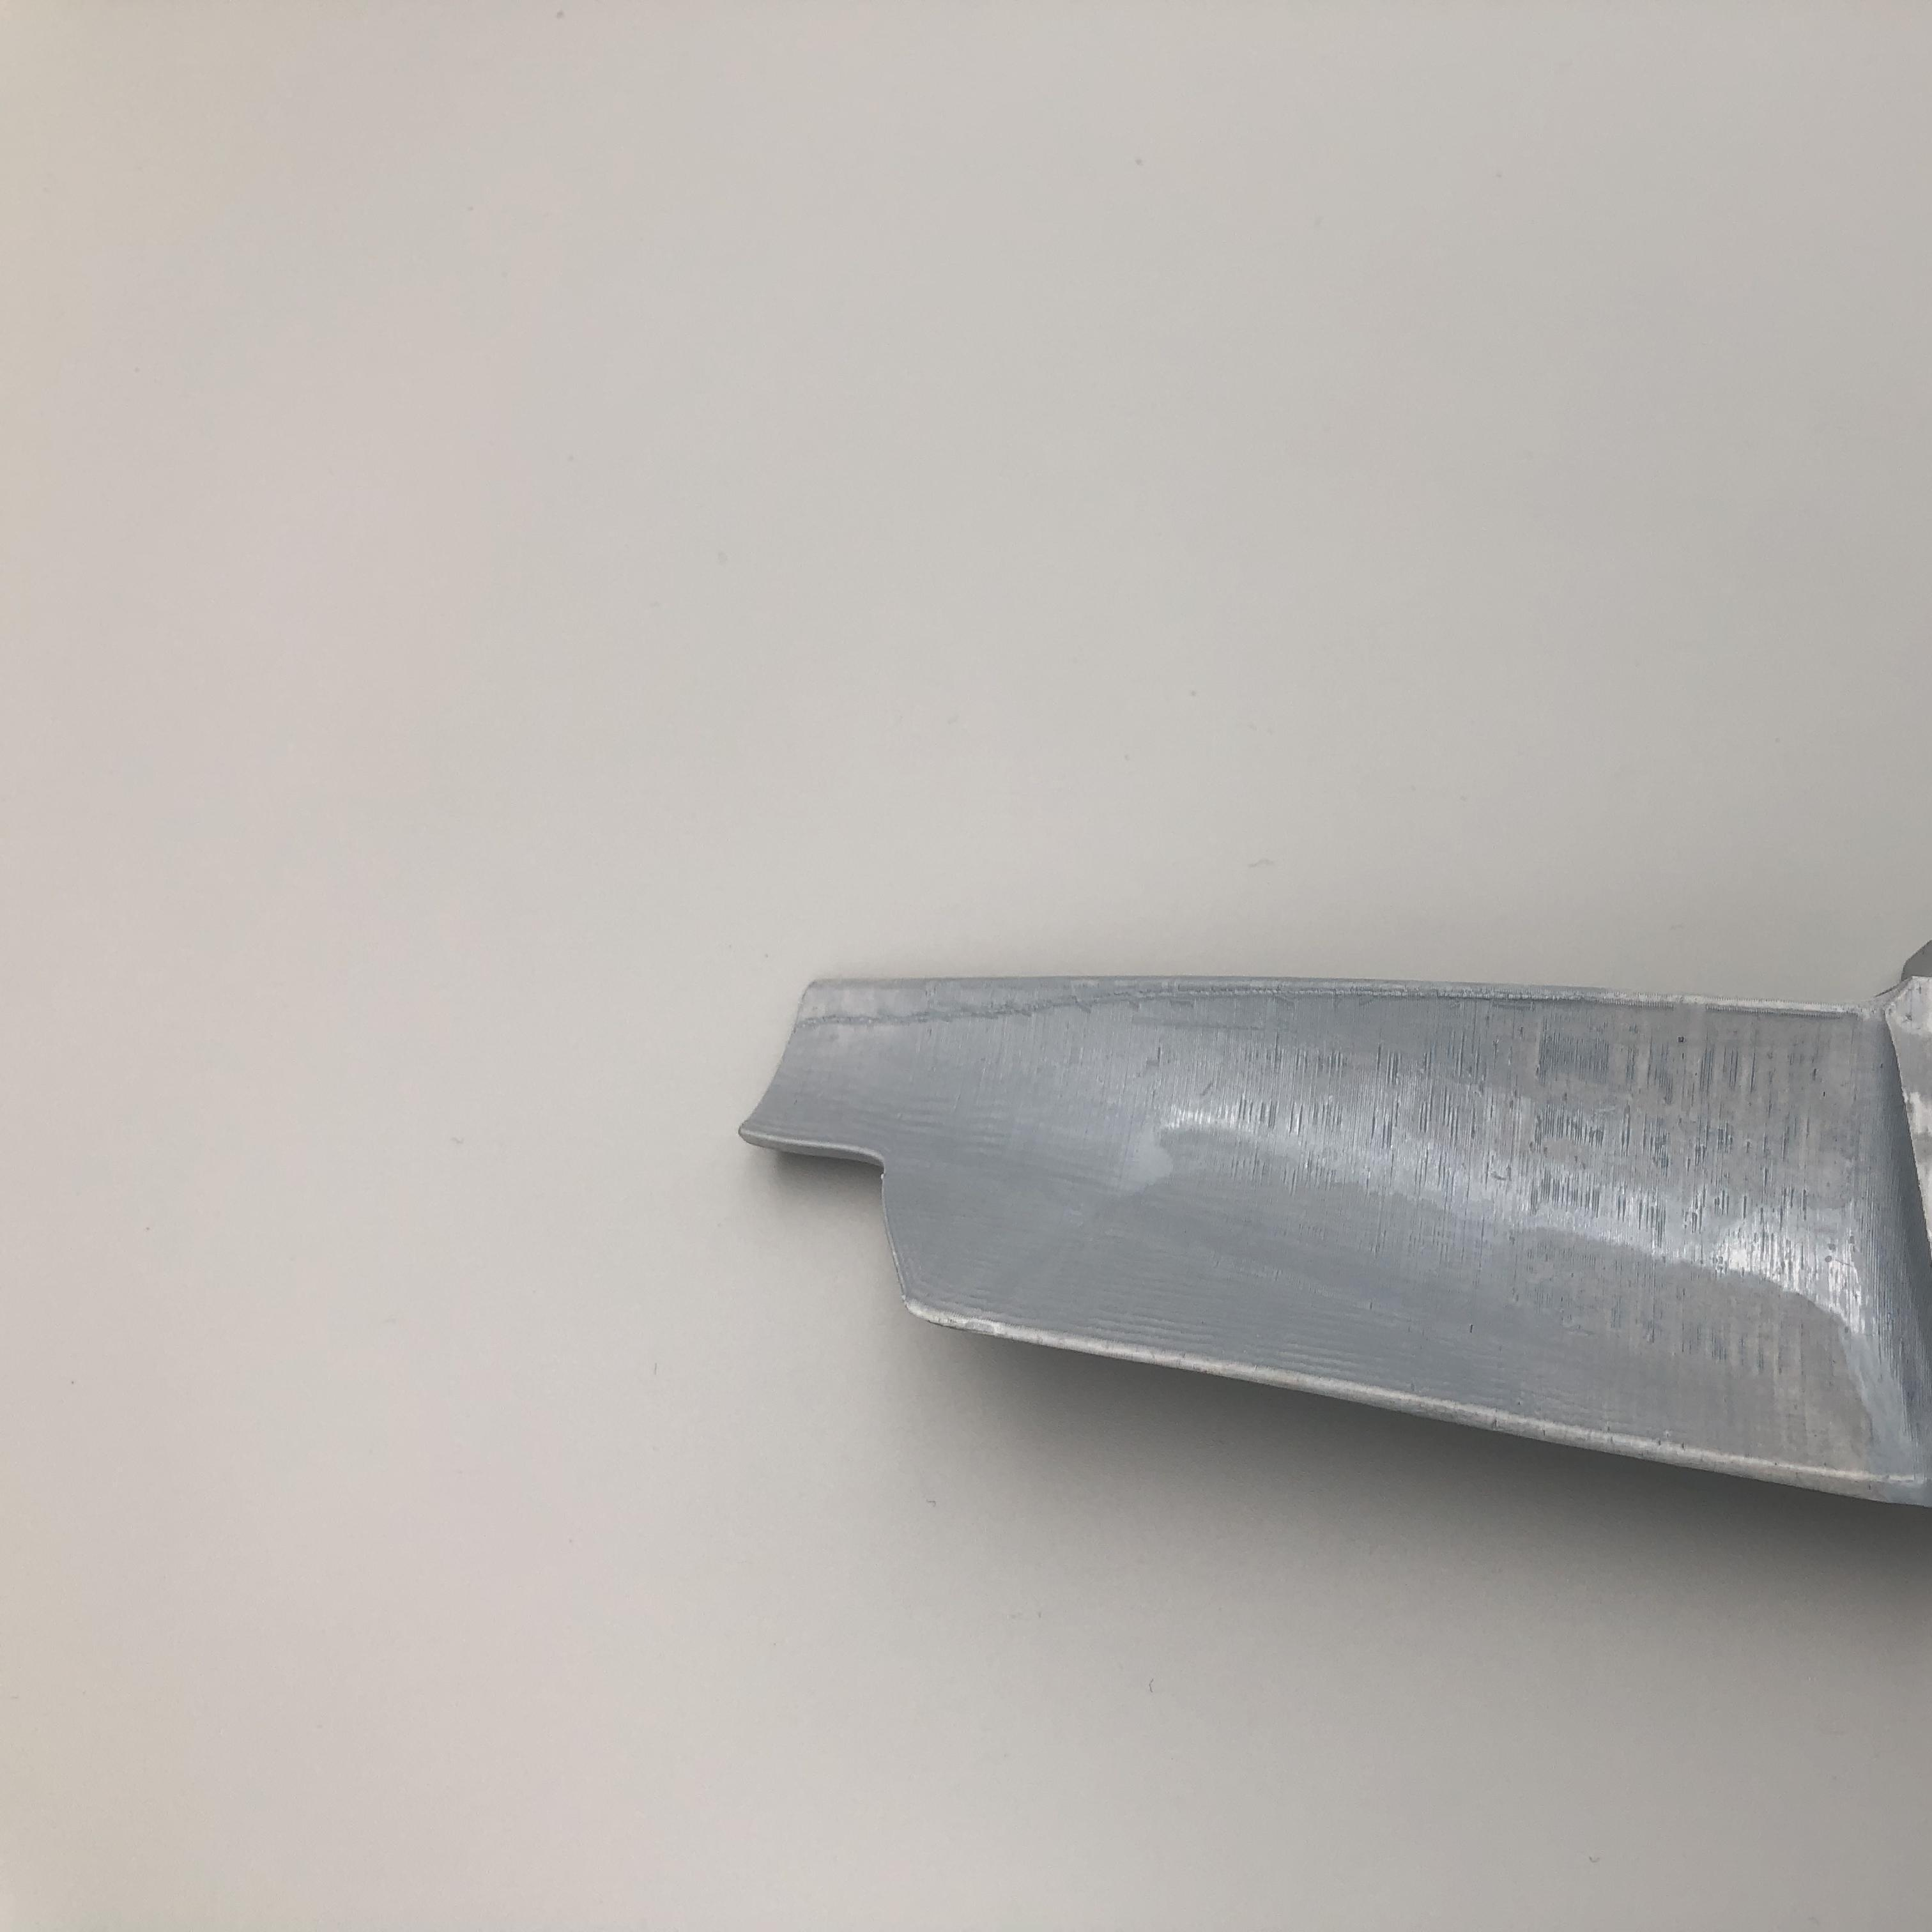fracture: (750, 1118, 941, 1316)
